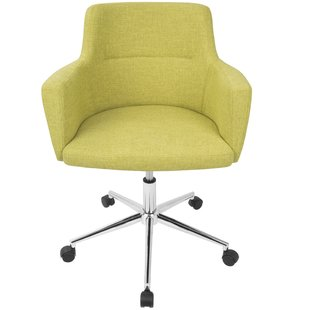chairs: (37, 1, 255, 310)
